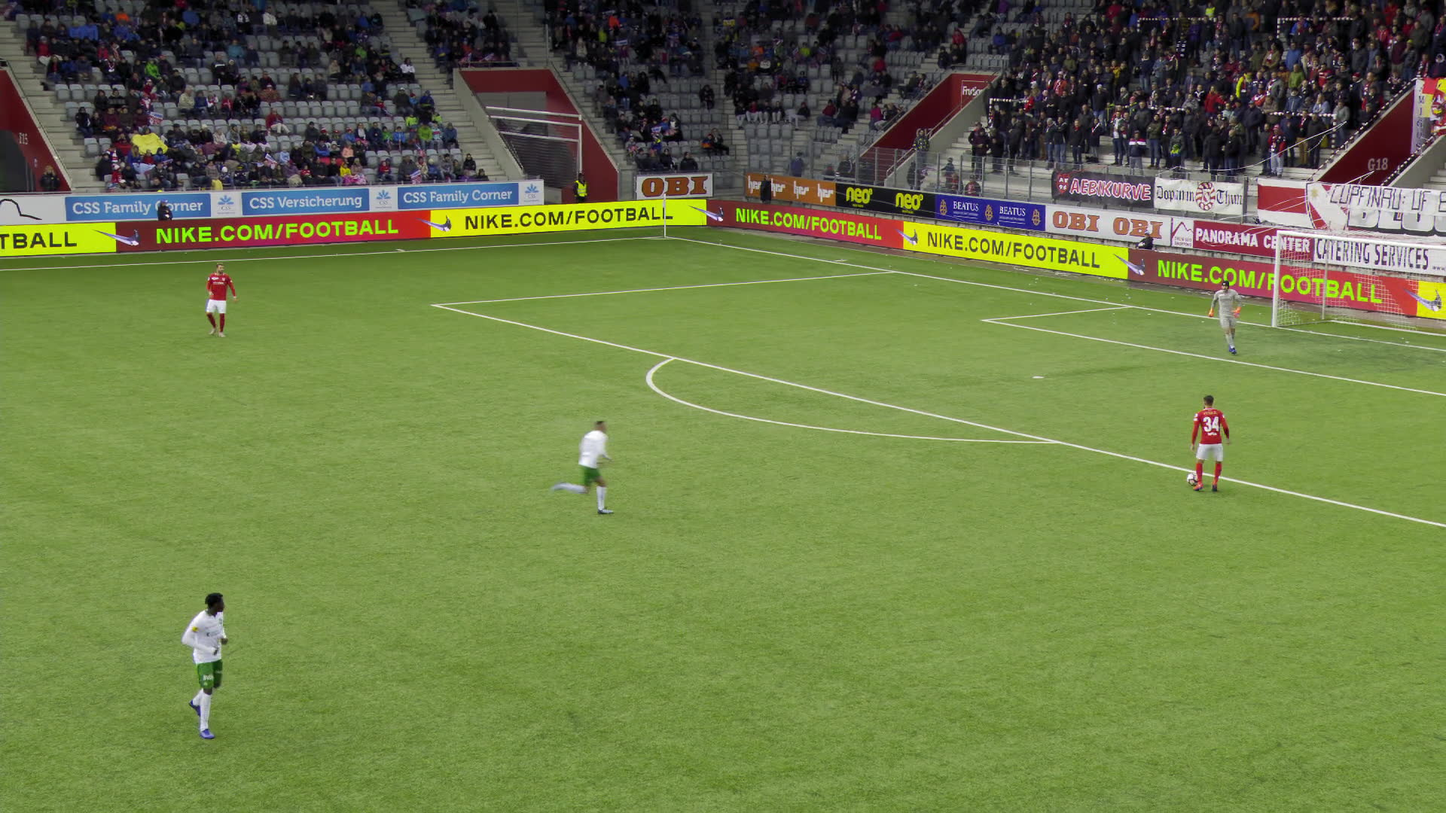ball: (1185, 472, 1199, 485)
player: (182, 590, 229, 735), (554, 419, 609, 519), (1186, 394, 1233, 491), (1205, 280, 1243, 355), (202, 262, 235, 339)
